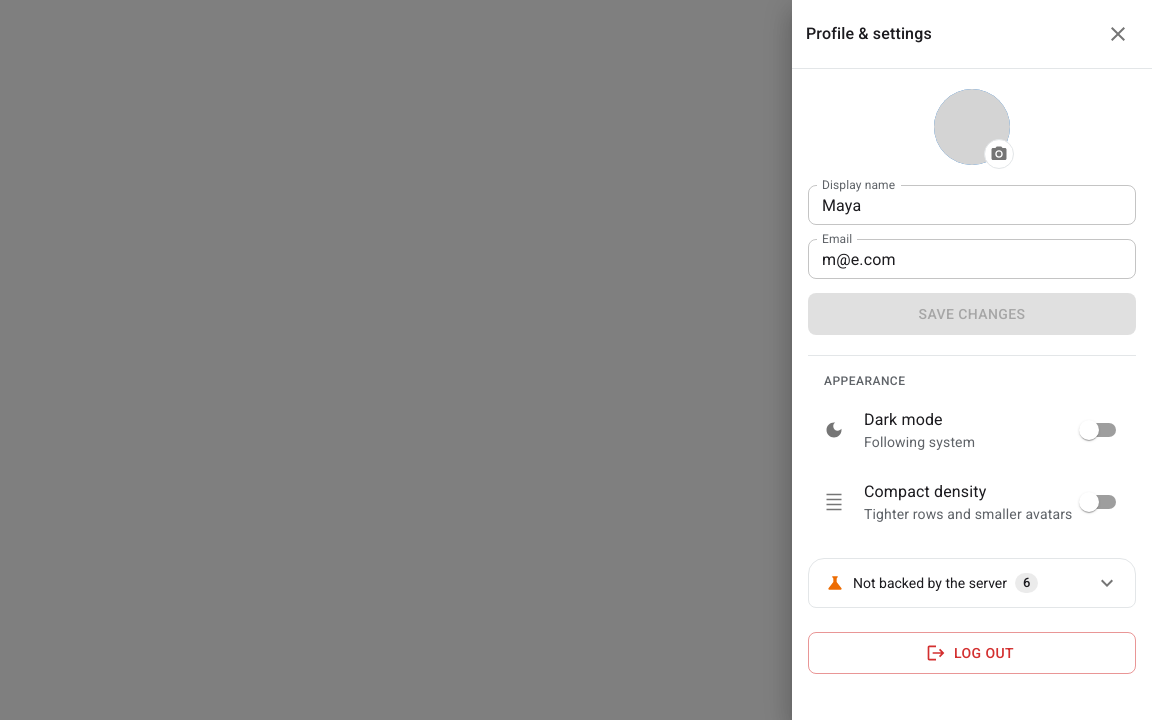
Test: the avatar menu › offers Upload a new photo and Adjust crop when both can work
Click the button named "profile photo options".
click(999, 154)  # box top-left (984, 139), bottom-right (1014, 169)
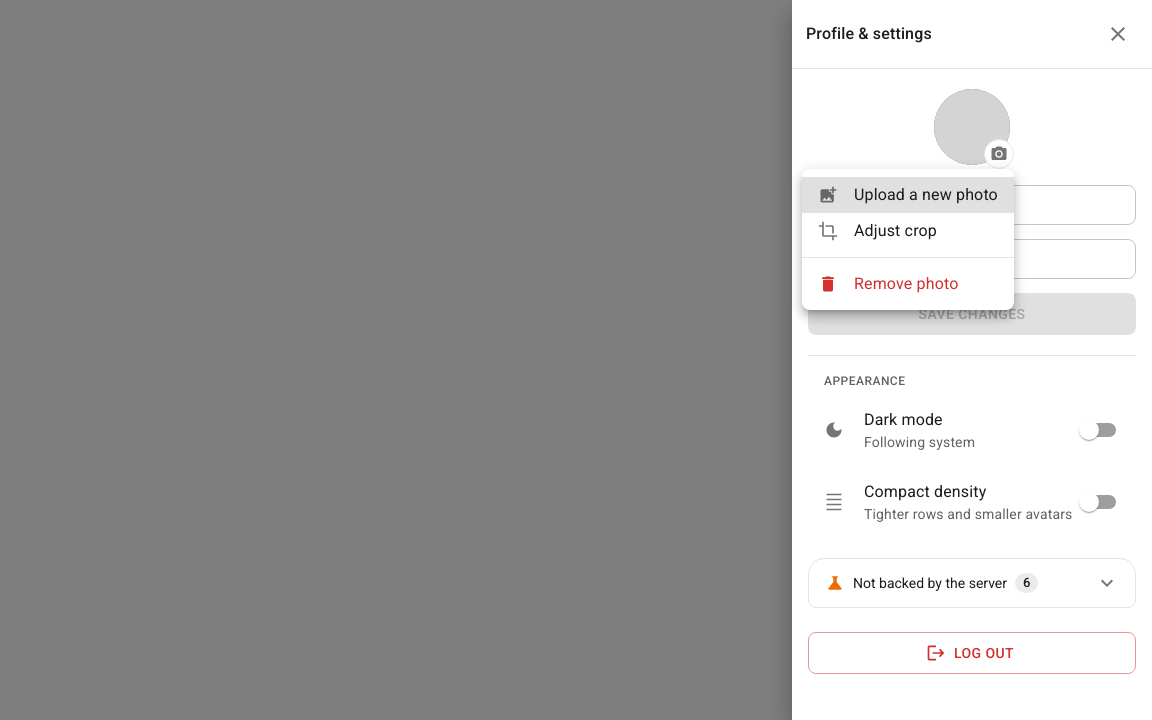
Now the menu item "Upload a new photo" is shown, box top-left (802, 177), bottom-right (1014, 213)
Now the menu item "Adjust crop" is shown, box top-left (818, 221), bottom-right (937, 241)
